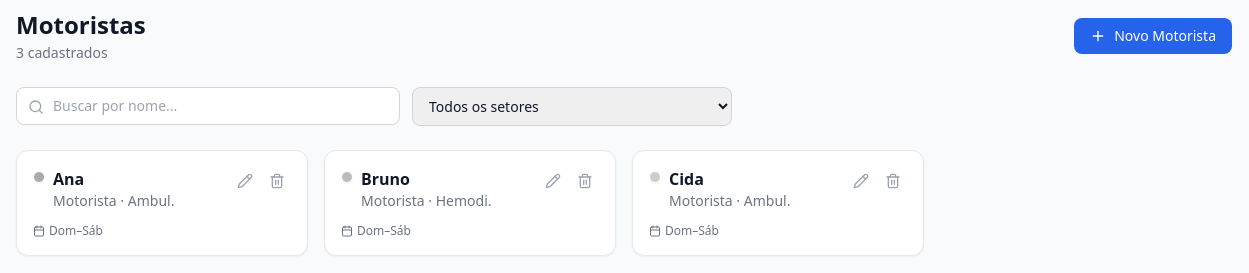
Scenario: EmployeesPage — busca por nome › filtragem por nome é case-insensitive
Type "ana" into the field with placeholder "Buscar por nome..." at [208, 106], box [16,87,400,125]
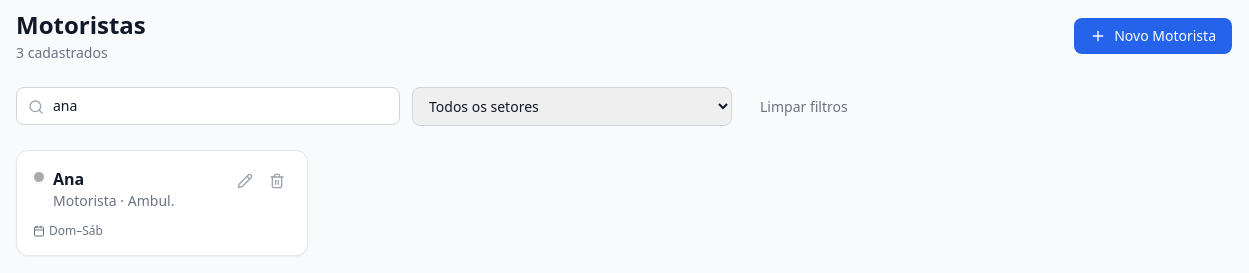
Expected: the heading "Ana" is shown, [53,168,84,190]
Now the heading "Bruno" is gone
